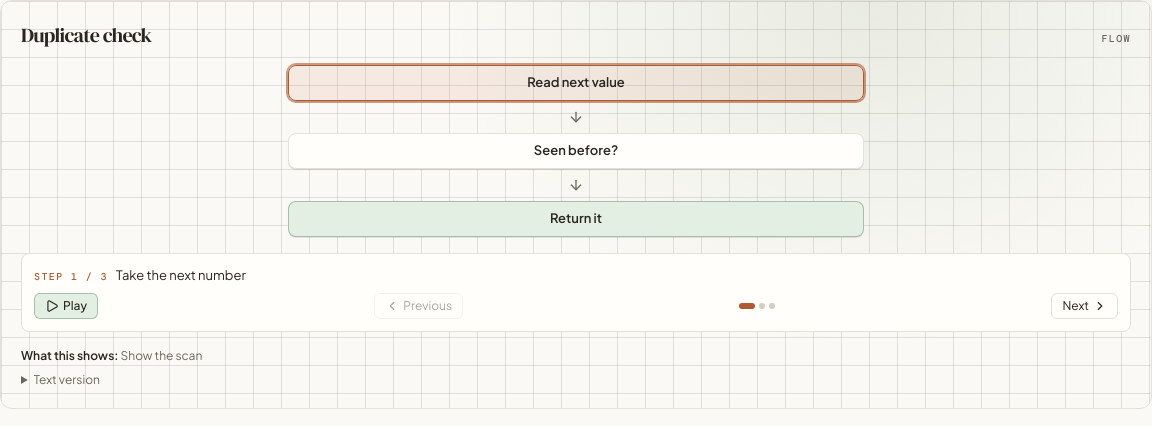
animated diagram walkthrough › stops playing when the student steps manually
Click the button "Play" at coordinates (66, 306), box top-left (34, 293), bottom-right (98, 319)
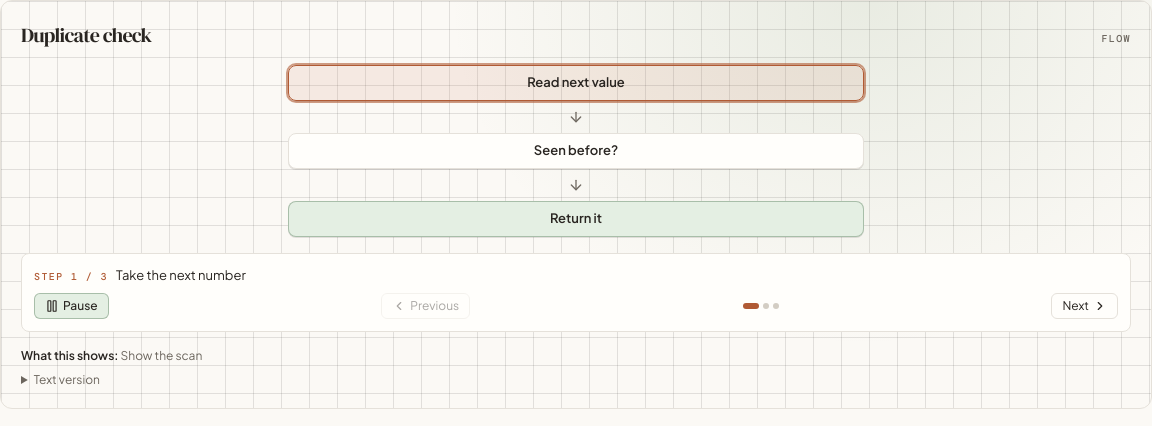
Click the button "Next" at coordinates (1085, 306), box top-left (1051, 293), bottom-right (1118, 319)
Wait 5000 ms
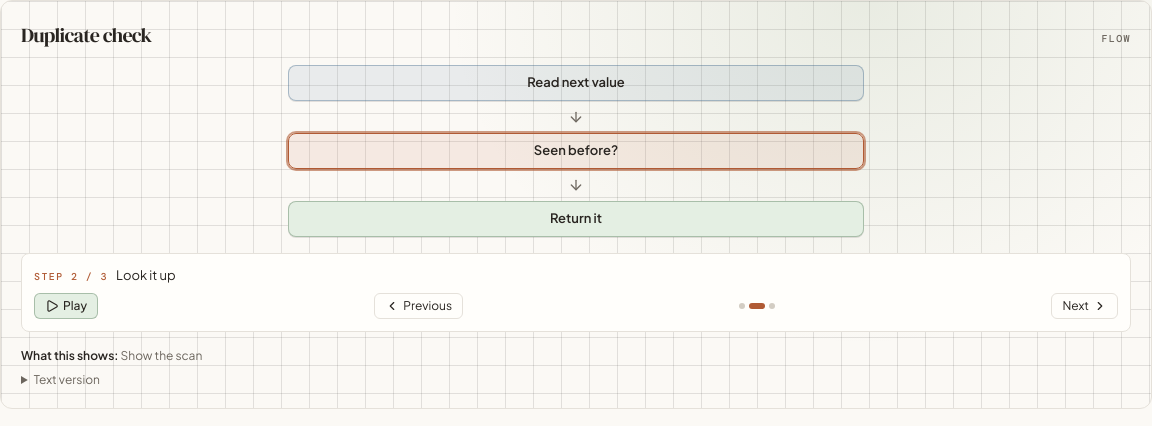
expect the button "Play" is shown: met, box top-left (34, 293), bottom-right (98, 319)
expect the text "Look it up" is shown: met, box top-left (116, 267), bottom-right (176, 283)
